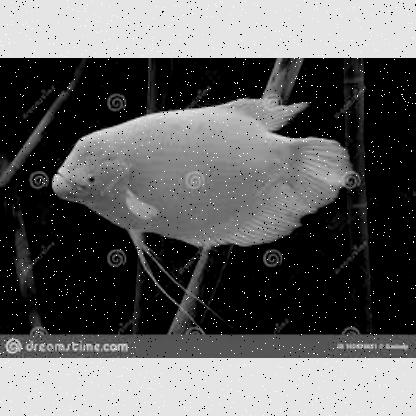gurame: (53, 100, 351, 250)
